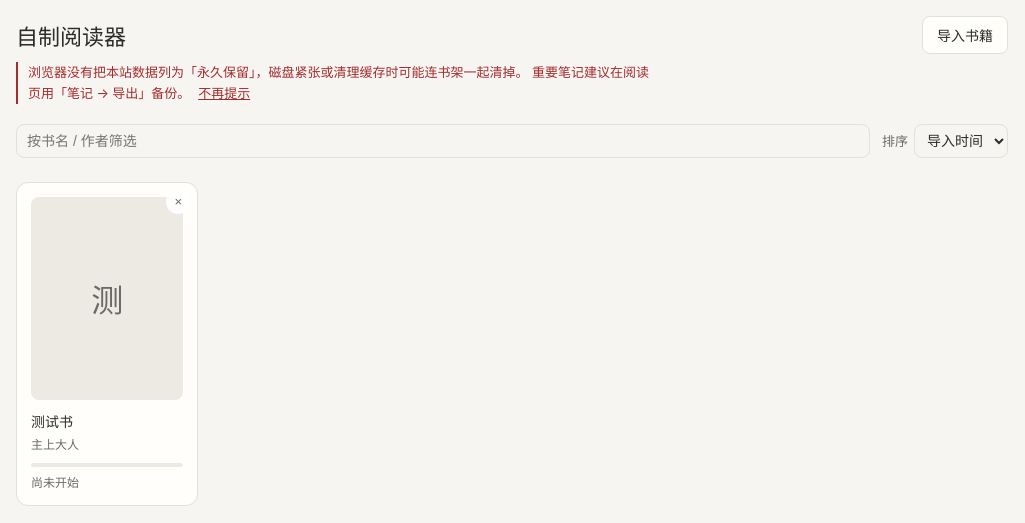
Test: App：持久化存储申请与备份提示 › 被拒且书架有书时才提示，点「不再提示」会永久记住
The width and height of the screenshot is (1025, 523).
Expected: the text "可能连书架一起清掉" is shown, [28,63,649,102]
Click the button "不再提示".
click(224, 93)  # box [198,83,250,104]
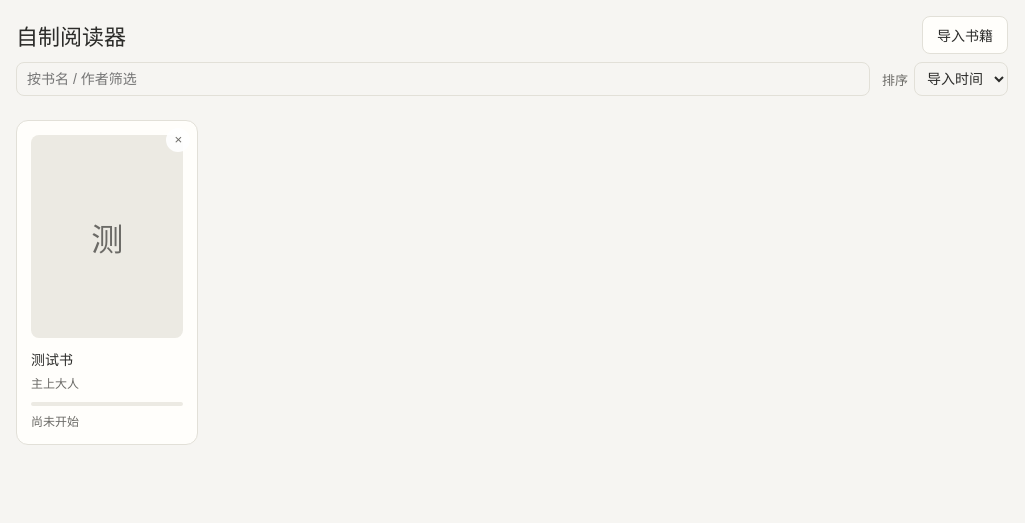
Expected: the text "可能连书架一起清掉" is gone
